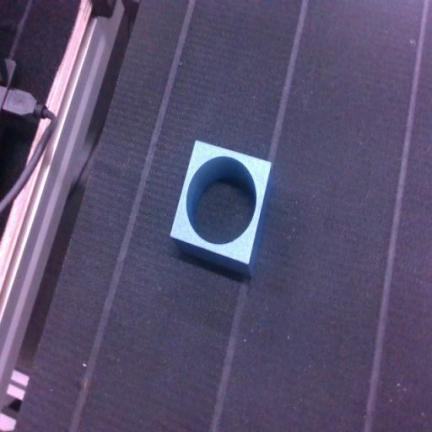hole: (171, 141, 271, 275)
